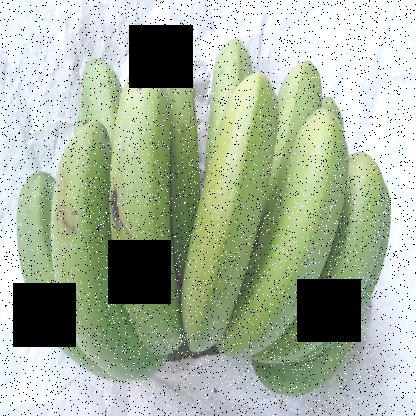freshunripe: (259, 138, 388, 385), (182, 63, 281, 384), (224, 106, 340, 376), (158, 16, 201, 311), (12, 166, 63, 368), (188, 21, 259, 156), (268, 42, 340, 139), (72, 36, 120, 136)
unripe: (106, 58, 186, 371), (50, 122, 122, 390)
